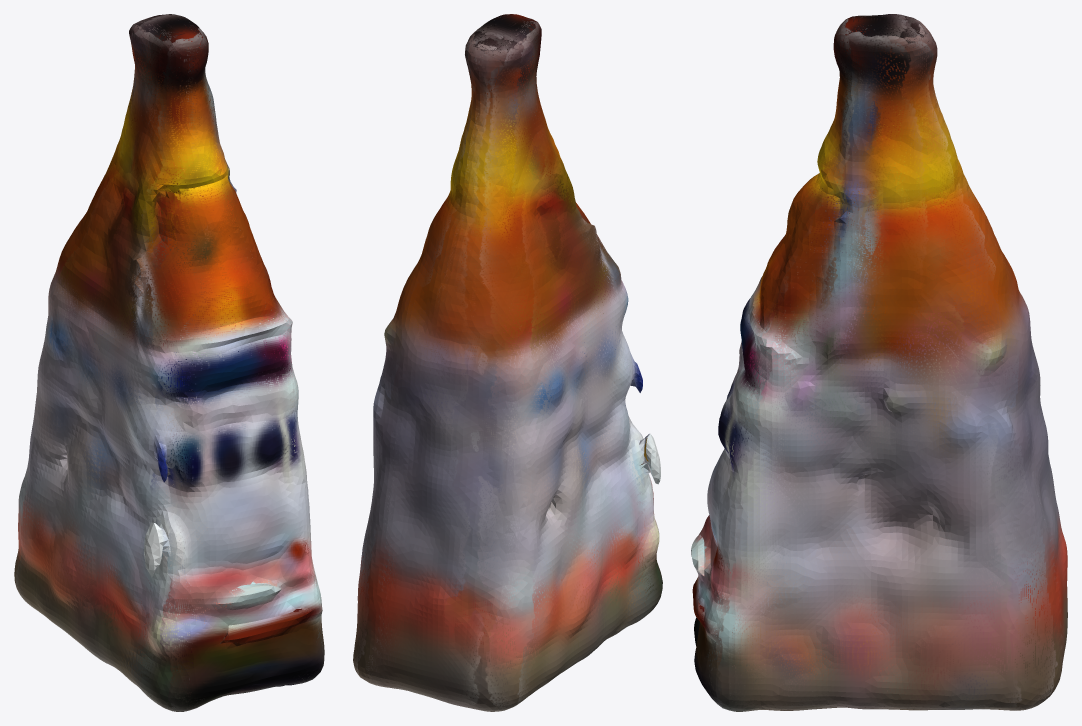
3 renders of one model, left to right at view 1: azimuth 30°, elevation 25°; view 2: azimuth 150°, elevation 25°; view 3: azimuth 270°, elevation 25°, orthographic. The views are drawn at different scales.
Bounding box in the file's own units: 0.4349 × 1.39 × 0.7213.
Materials: 1 (1 with a texture image).
